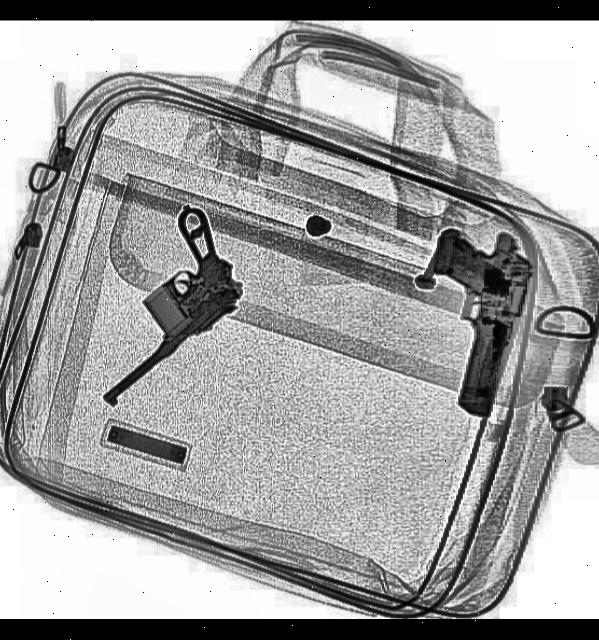Gun: (47, 200, 264, 410), (396, 212, 545, 418)
